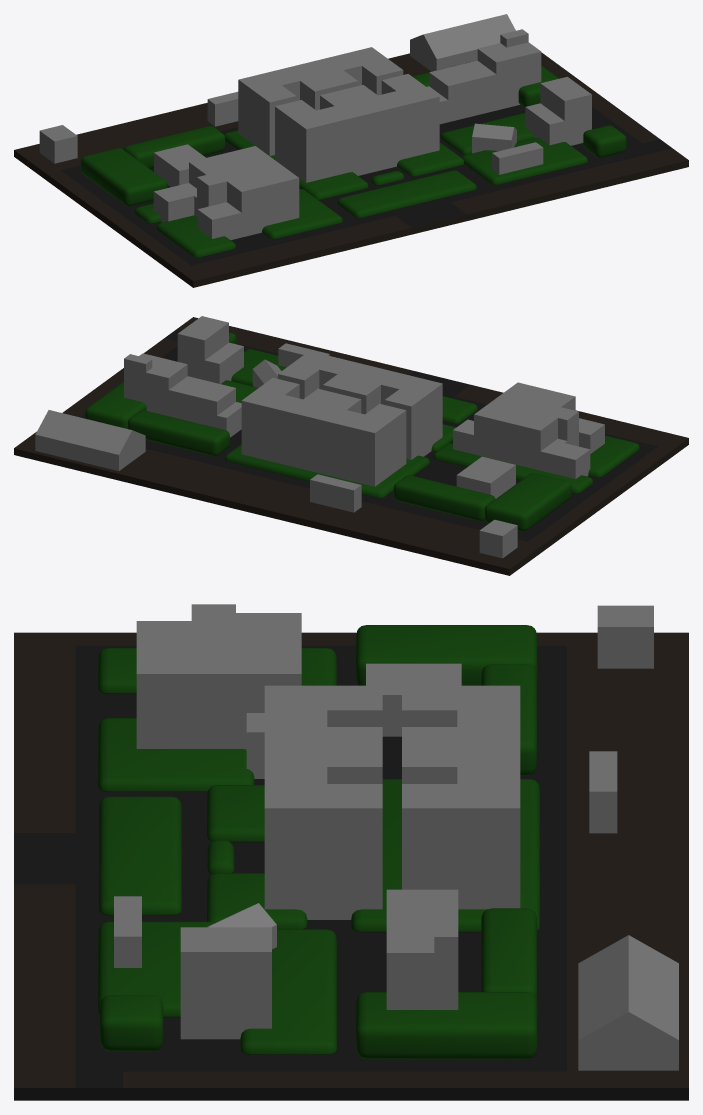
File: Administration Building Area_short.fbx
The picture shows the model from 3 angles, top to bottom: view 1: azimuth 30°, elevation 25°; view 2: azimuth 150°, elevation 25°; view 3: azimuth 270°, elevation 25°; orthographic projection. The views are drawn at different scales.
Visible parts, largest first — view 1: Admin_s; view 2: Admin_s; view 3: Admin_s.
Boxes of the visible parts, x1,y1,x2,y2 form: Admin_s: (14, 14, 688, 287); Admin_s: (14, 316, 688, 575); Admin_s: (14, 604, 688, 1100).
Size of the model in its own units: 36.73 by 4.68 by 23.01.
